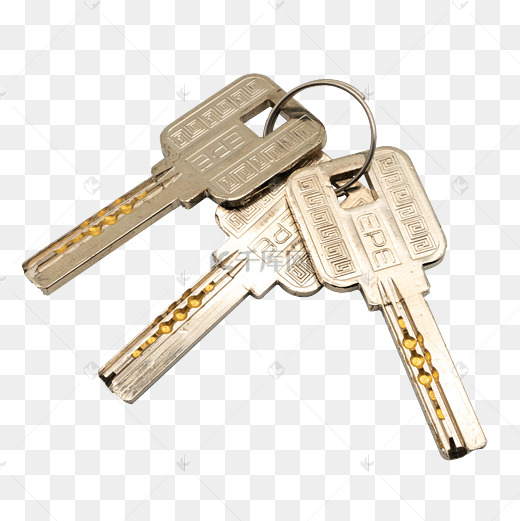key: (90, 128, 386, 423), (274, 138, 502, 467), (18, 68, 328, 305)
